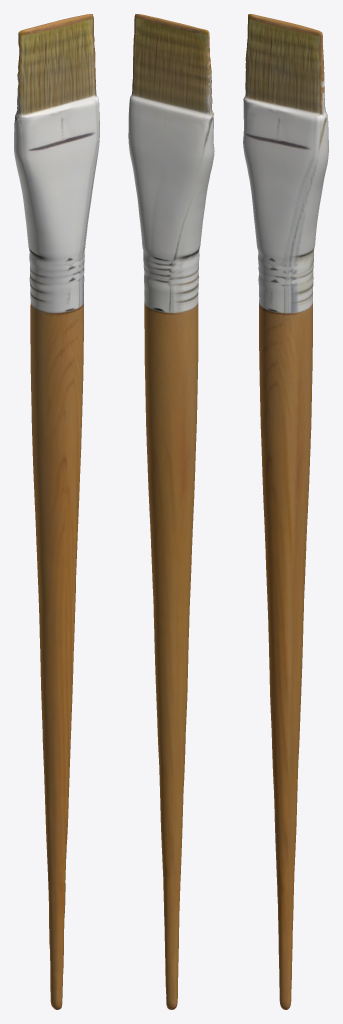
The model's file is Brushstroke_Essential_0510115617_texture.fbx.
3 views of the same model, side by side, from view 1: azimuth 30°, elevation 25°; view 2: azimuth 150°, elevation 25°; view 3: azimuth 330°, elevation 25° (orthographic).
Visible parts, largest first — view 1: input; view 2: input; view 3: input.
Part boxes in pixels (box(x1,y1,x2,y2)): input: box(14, 14, 99, 1009); input: box(128, 14, 214, 1009); input: box(243, 14, 328, 1009).
Bounding box in the file's own units: 17.27 × 199 × 9.83.
1 material, 1 textured.
